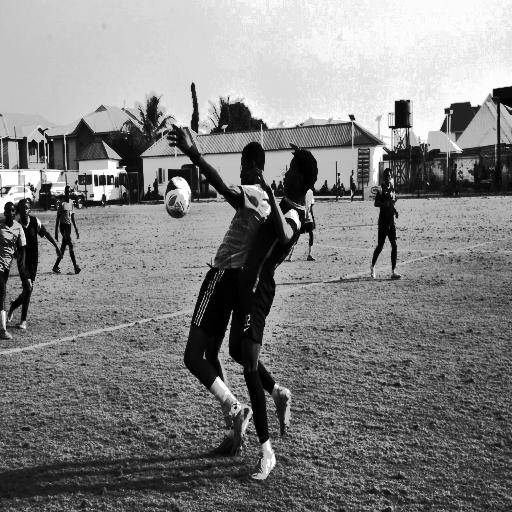ball: (162, 164, 194, 223)
referee: (54, 180, 85, 280), (348, 166, 358, 205)
team1: (182, 138, 270, 468), (2, 187, 24, 342)
team2: (240, 148, 322, 468), (372, 160, 405, 286), (14, 198, 36, 330)
